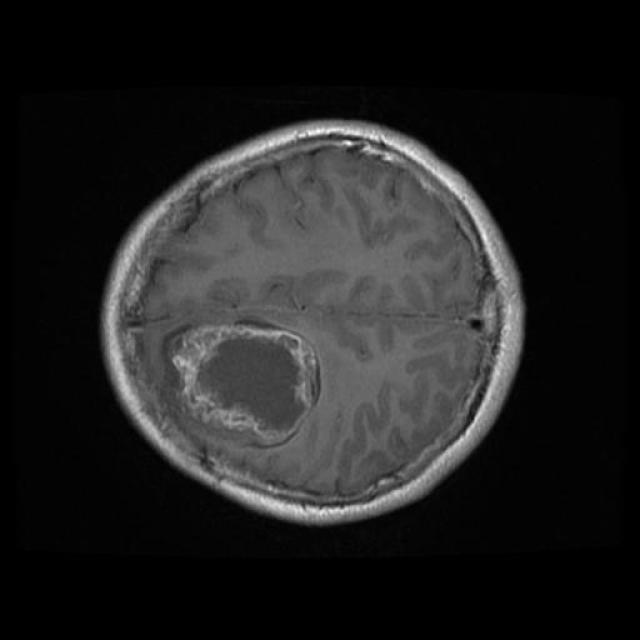Glioma: (170, 325, 318, 438)
